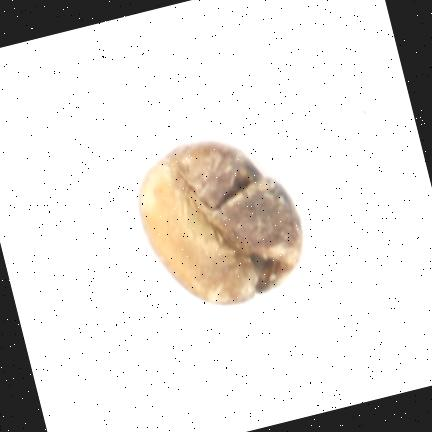partial-black: (139, 141, 301, 302)
